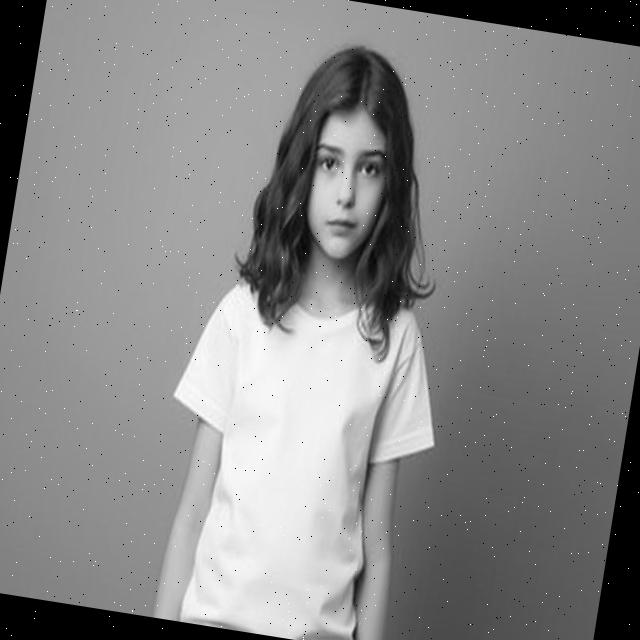Neutral: (302, 107, 394, 262)
